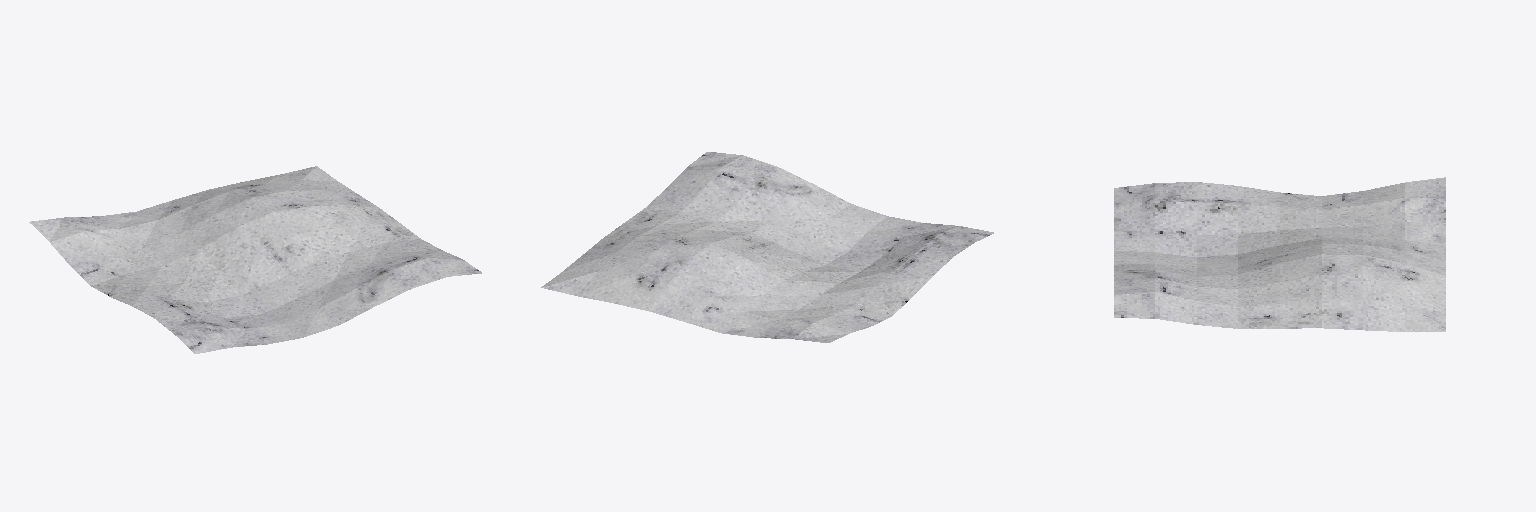
3 views of the same model, side by side, from view 1: azimuth 30°, elevation 25°; view 2: azimuth 150°, elevation 25°; view 3: azimuth 270°, elevation 25° (orthographic).
Visible parts, largest first — view 1: Snow_10M_Plane.003; view 2: Snow_10M_Plane.003; view 3: Snow_10M_Plane.003.
Boxes of the visible parts, x1,y1,x2,y2 form: Snow_10M_Plane.003: [29, 166, 481, 353]; Snow_10M_Plane.003: [541, 152, 993, 342]; Snow_10M_Plane.003: [1114, 177, 1445, 331].
Bounding box in the file's own units: 10 × 1.27 × 10.
1 materials, 1 textured.